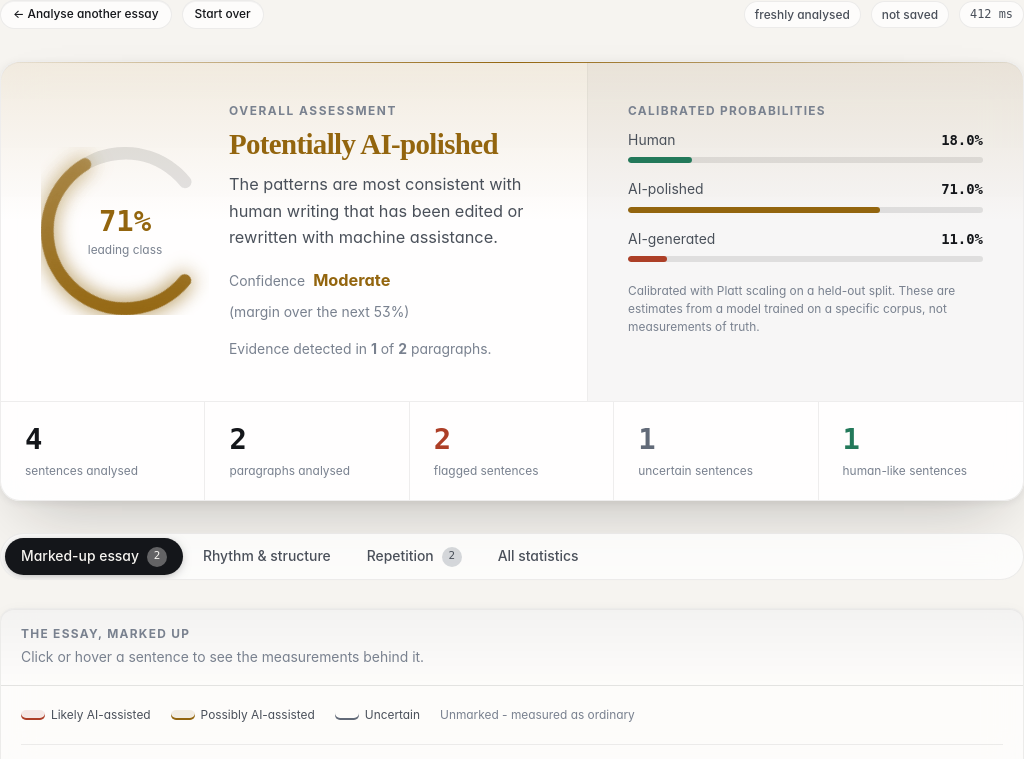
Test case: ResultsPage › shows the statistics table on its own tab
The image size is (1024, 759).
Click the tab "All statistics": click(538, 557) [482,538,594,575]
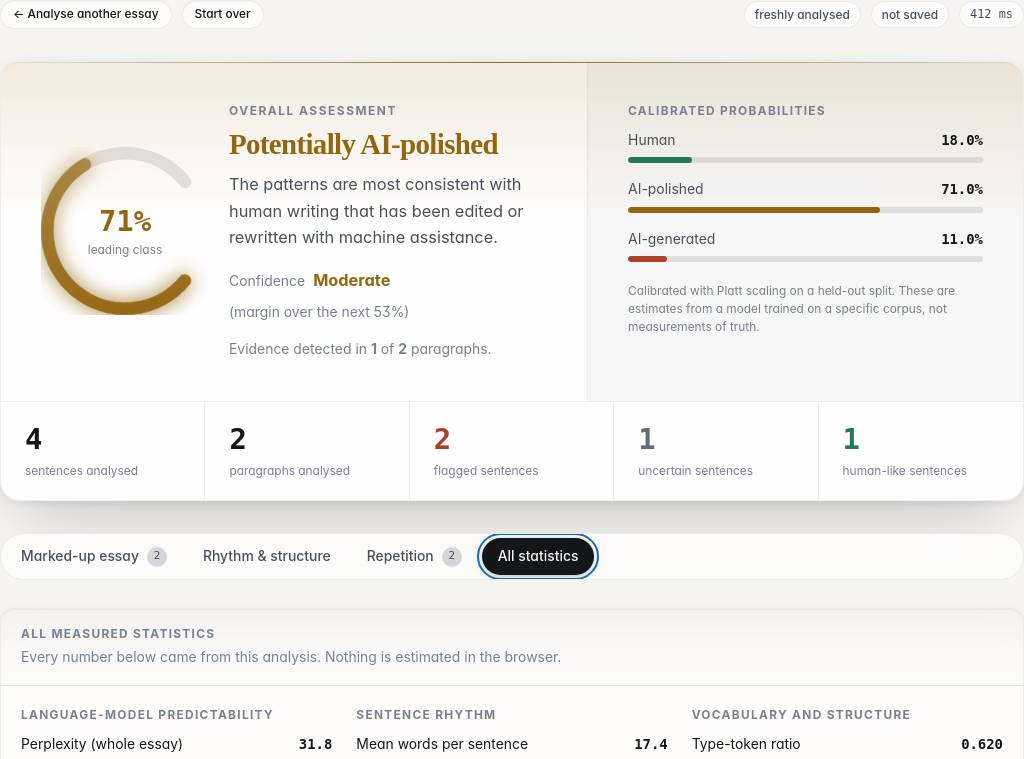
Expected: the text "All measured statistics" is shown, [21,626,215,641]
